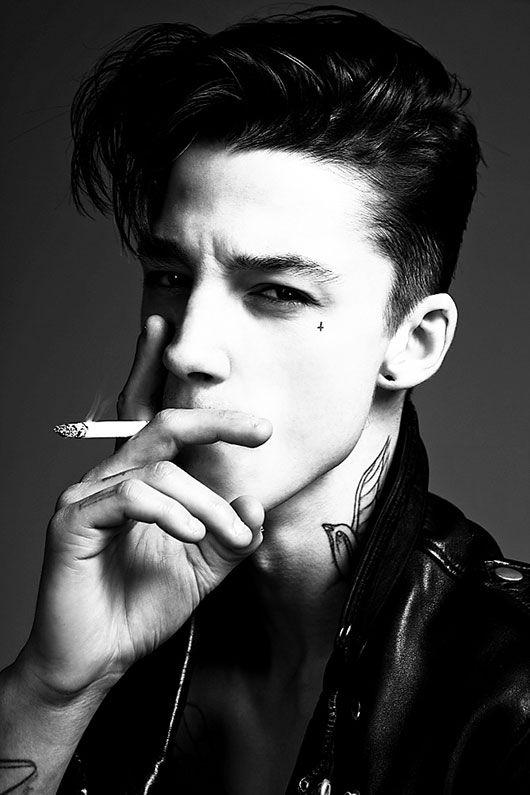cigarette: (54, 420, 150, 440)
